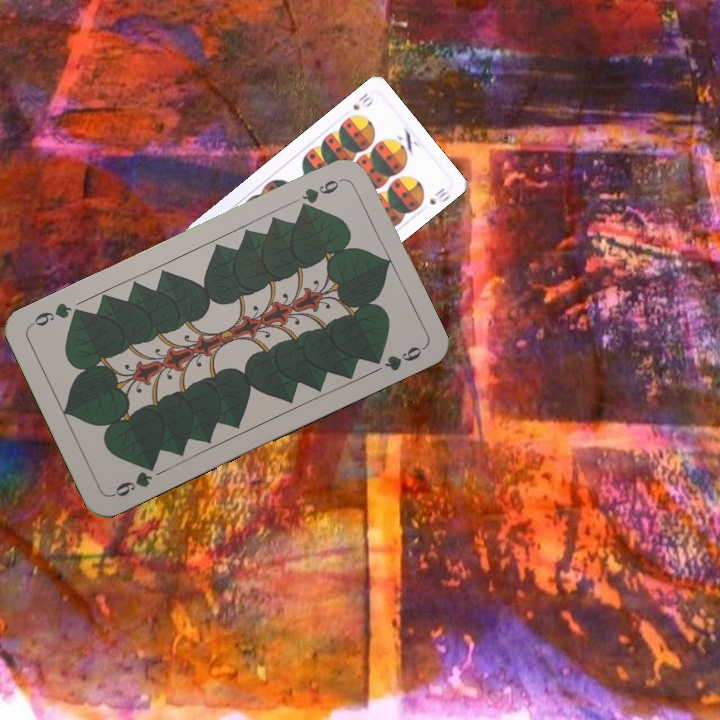G9: (108, 458, 158, 500), (295, 174, 345, 213)
S10: (349, 89, 376, 113)
